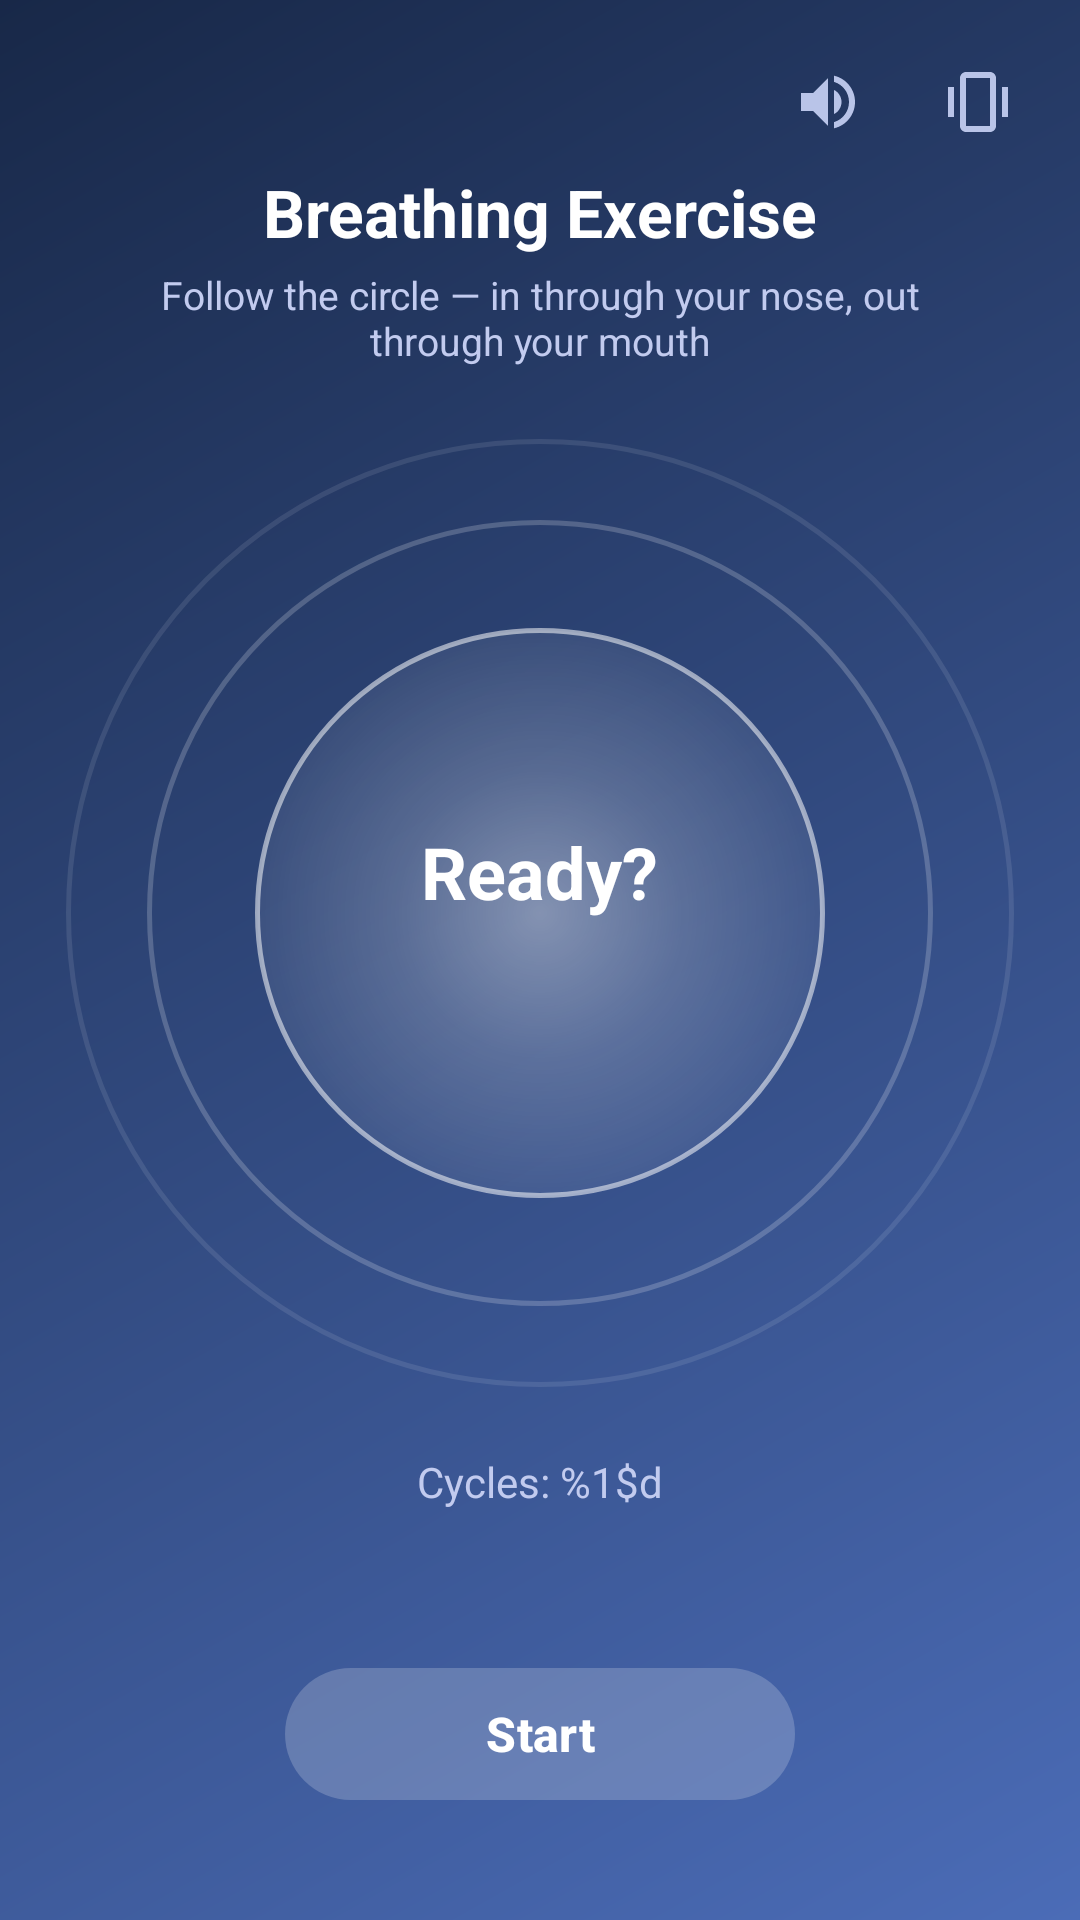

Icon click points for this 1080x1920 phone screenshot, format (x=x, y=y):
Toggle haptic cues: (x=978, y=102)
Toggle sounds: (x=828, y=102)
